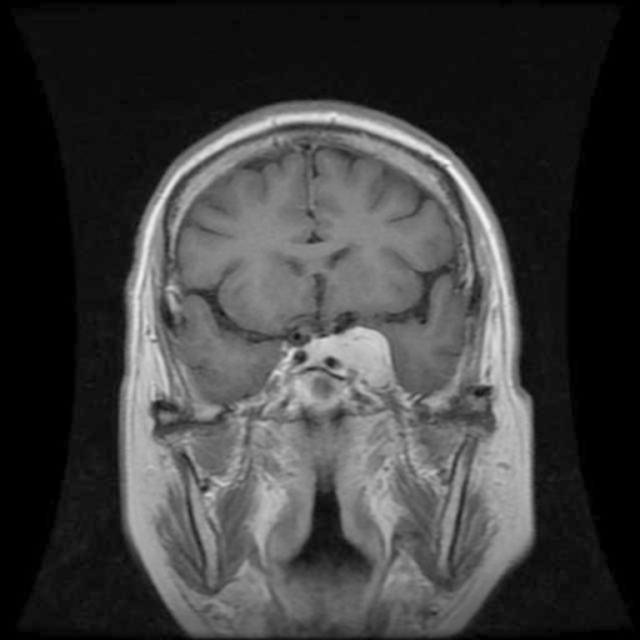meningioma tumor: (255, 325, 406, 401)
